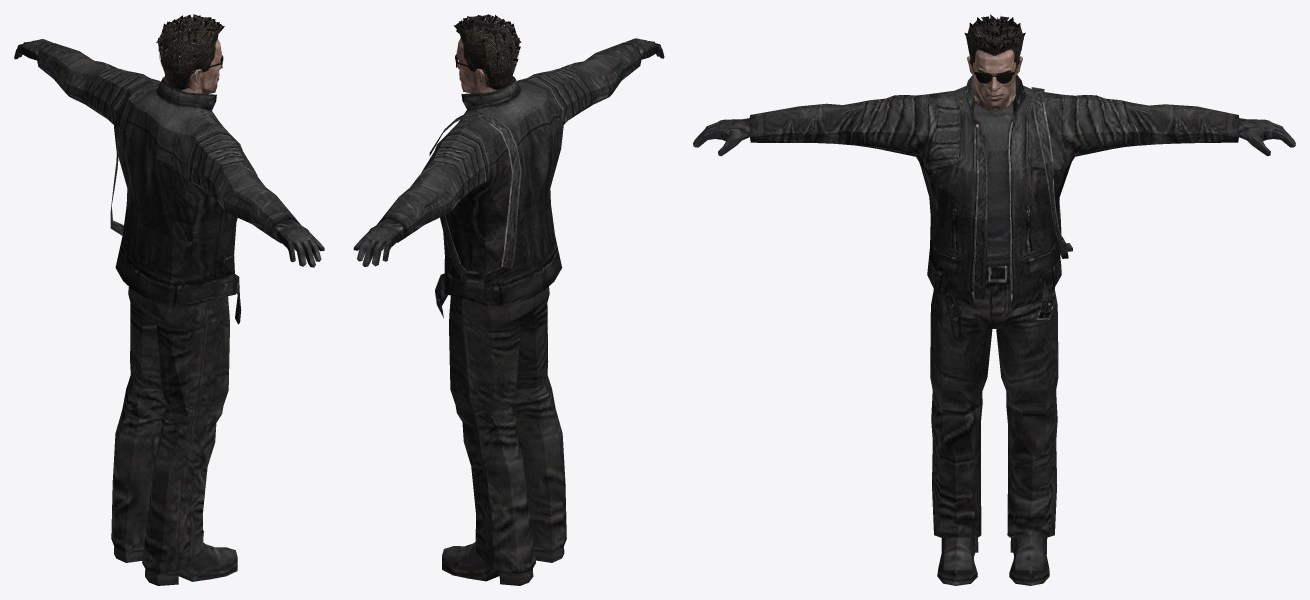
File: T3_T-850_biker.obj
3 renders of one model, left to right at view 1: azimuth 30°, elevation 25°; view 2: azimuth 150°, elevation 25°; view 3: azimuth 270°, elevation 25°, orthographic. The views are drawn at different scales.
Parts seen in each view (by area): view 1: Object.001_Mesh.001_M, 00.004_Mesh.006_Mater, Object.003_Mesh.003_M; view 2: Object.001_Mesh.001_M, Object.003_Mesh.003_M, 00.004_Mesh.006_Mater; view 3: Object.001_Mesh.001_M, Object.003_Mesh.003_M, 00.004_Mesh.006_Mater.
Part boxes in pixels (left/top/right/bottom): Object.001_Mesh.001_M: left=14, top=25, right=324, bottom=585; 00.004_Mesh.006_Mater: left=156, top=14, right=224, bottom=72; Object.003_Mesh.003_M: left=110, top=83, right=159, bottom=235; Object.001_Mesh.001_M: left=353, top=26, right=664, bottom=585; Object.003_Mesh.003_M: left=429, top=111, right=521, bottom=290; 00.004_Mesh.006_Mater: left=454, top=14, right=521, bottom=74; Object.001_Mesh.001_M: left=693, top=23, right=1295, bottom=585; Object.003_Mesh.003_M: left=1031, top=87, right=1072, bottom=258; 00.004_Mesh.006_Mater: left=964, top=14, right=1025, bottom=52.
Bounding box in the file's own units: 0.3673 × 1.89 × 1.86.
7 materials, 7 textured.
